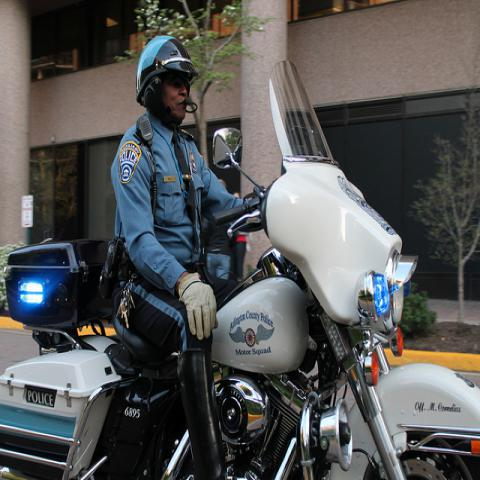motorcycle: (0, 55, 479, 476)
